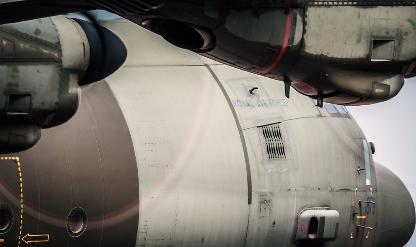Be200: (0, 0, 415, 245)
